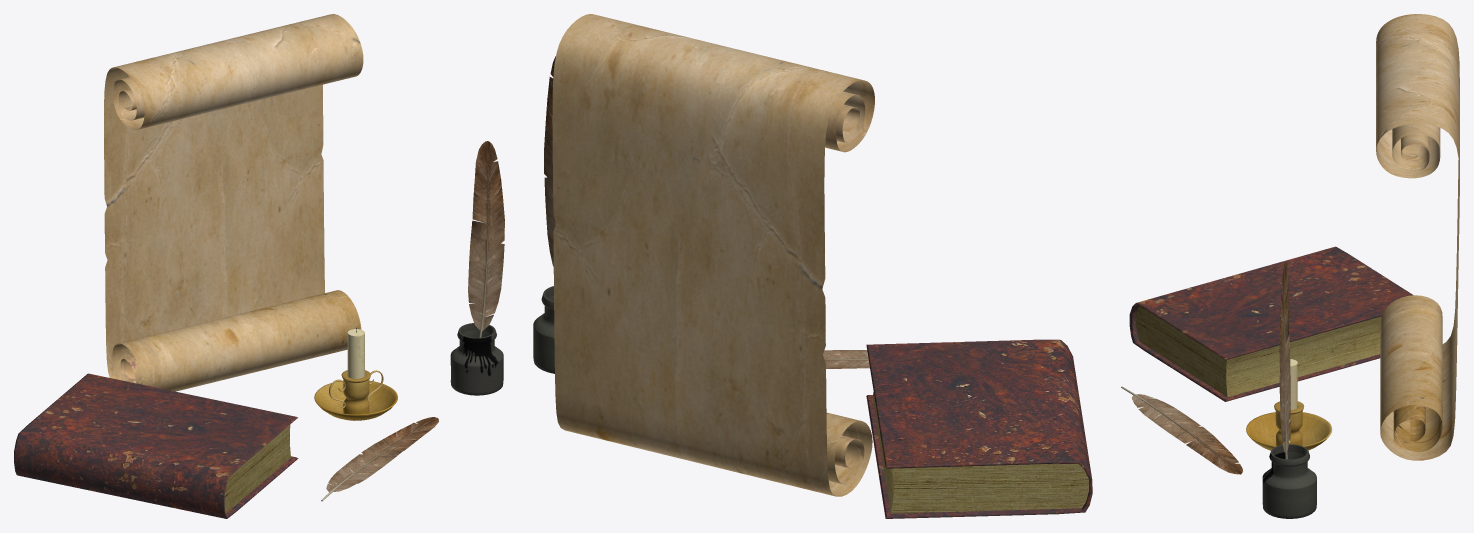
The model's file is ScrollBookCandle.obj.
The picture shows the model from 3 angles, left to right: view 1: azimuth 30°, elevation 25°; view 2: azimuth 150°, elevation 25°; view 3: azimuth 270°, elevation 25°; orthographic projection. The views are drawn at different scales.
Parts seen in each view (by area): view 1: Models Scroll, Models Book, Models Feather1, Models Candle, Models ink_bottle, Feather2 Models; view 2: Models Scroll, Models Book, Models ink_bottle, Models Feather1, Feather2 Models; view 3: Models Book, Models Scroll, Models ink_bottle, Models Candle, Feather2 Models, Models Feather1.
Boxes of the visible parts, box(x1,y1,x2,y2) form: Models Scroll: box(104, 14, 363, 391); Models Book: box(14, 373, 298, 518); Models Feather1: box(468, 141, 504, 337); Models Candle: box(314, 327, 397, 420); Models ink_bottle: box(450, 323, 503, 395); Feather2 Models: box(321, 417, 438, 501); Models Scroll: box(552, 14, 874, 496); Models Book: box(866, 339, 1092, 518); Models ink_bottle: box(533, 286, 554, 373); Models Feather1: box(544, 56, 555, 266); Feather2 Models: box(823, 350, 869, 368); Models Book: box(1129, 246, 1413, 401); Models Scroll: box(1376, 14, 1459, 460); Models ink_bottle: box(1262, 444, 1316, 518); Models Candle: box(1246, 359, 1332, 450); Feather2 Models: box(1121, 386, 1242, 474); Models Feather1: box(1279, 261, 1291, 459).
Size of what is drawn, in the model's own units: 48.89 by 33.95 by 29.92.
